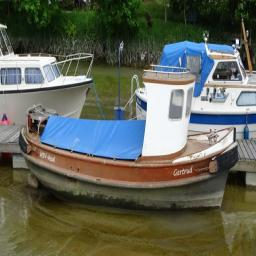tugboat: (18, 55, 241, 219)
